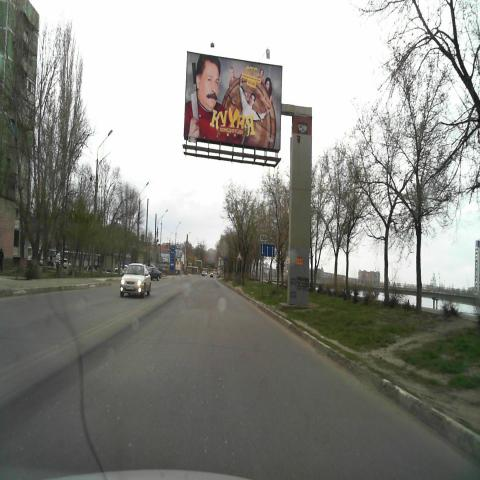5_15_7: (261, 243, 275, 257)
